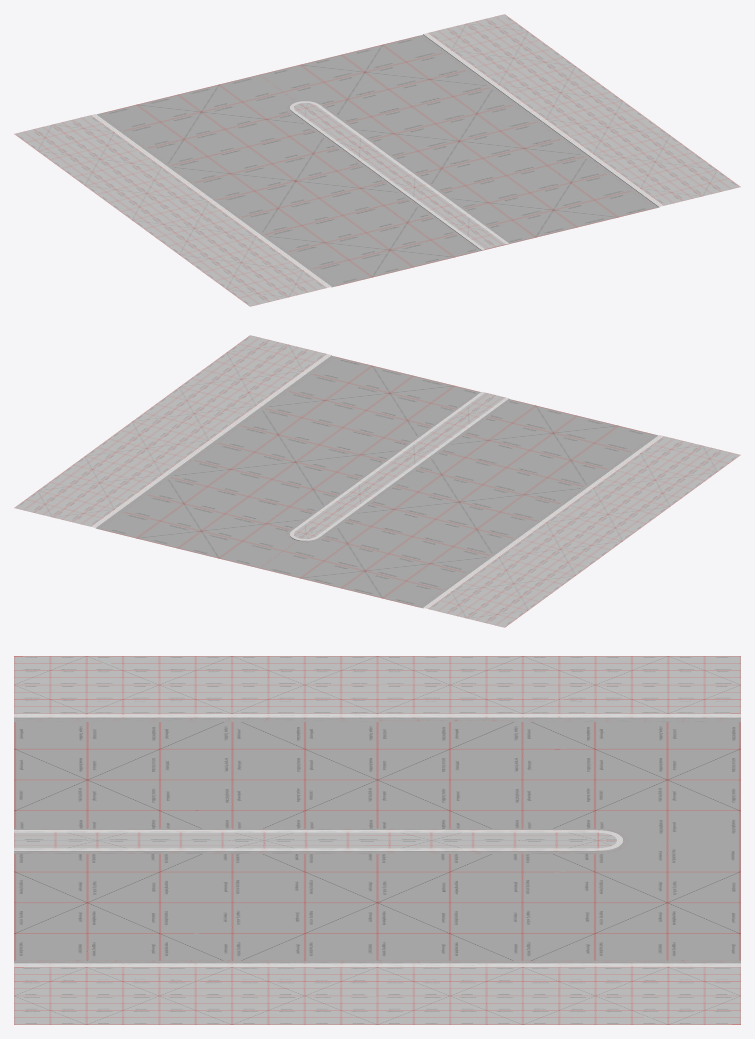
File: M_road_4x5_c.FBX
The picture shows the model from 3 angles, top to bottom: view 1: azimuth 30°, elevation 25°; view 2: azimuth 150°, elevation 25°; view 3: azimuth 270°, elevation 25°; orthographic projection. The views are drawn at different scales.
Visible parts, largest first — view 1: M_road_4x5_c; view 2: M_road_4x5_c; view 3: M_road_4x5_c.
Boxes of the visible parts, left/top/right/bottom form: M_road_4x5_c: left=14, top=14, right=740, bottom=306; M_road_4x5_c: left=14, top=335, right=740, bottom=627; M_road_4x5_c: left=14, top=656, right=740, bottom=1024.
Size of the model in its own units: 120 by 100 by 0.1384.
